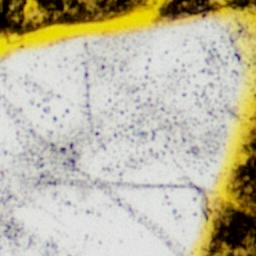cement_matrix: (211, 134, 255, 255), (35, 0, 135, 21), (0, 0, 33, 33), (163, 0, 215, 15), (230, 0, 255, 7)
cracks: (0, 0, 255, 255), (86, 0, 93, 5)
gravel_crushed_stones: (0, 16, 253, 255), (237, 252, 243, 255)
